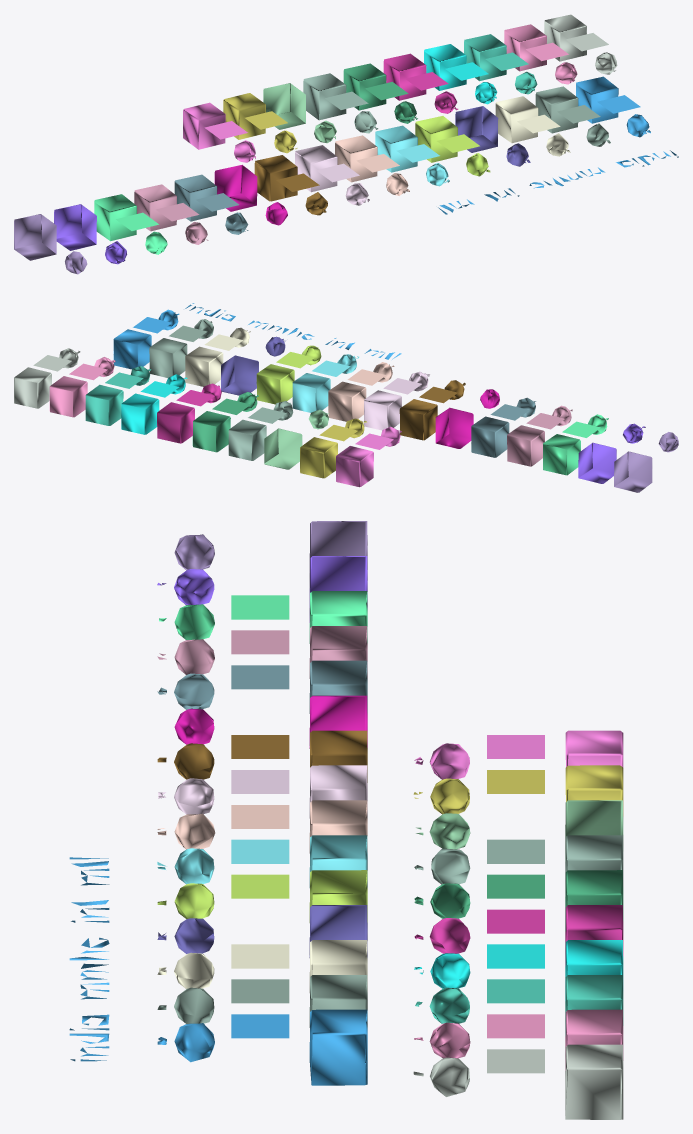
File: india_mmhc_int_mtl_lod4.glb
3 renders of one model, top to bottom at view 1: azimuth 30°, elevation 25°; view 2: azimuth 150°, elevation 25°; view 3: azimuth 270°, elevation 25°, orthographic. The views are drawn at different scales.
Bounding box in the file's own units: 83.42 × 3.78 × 35.62.
